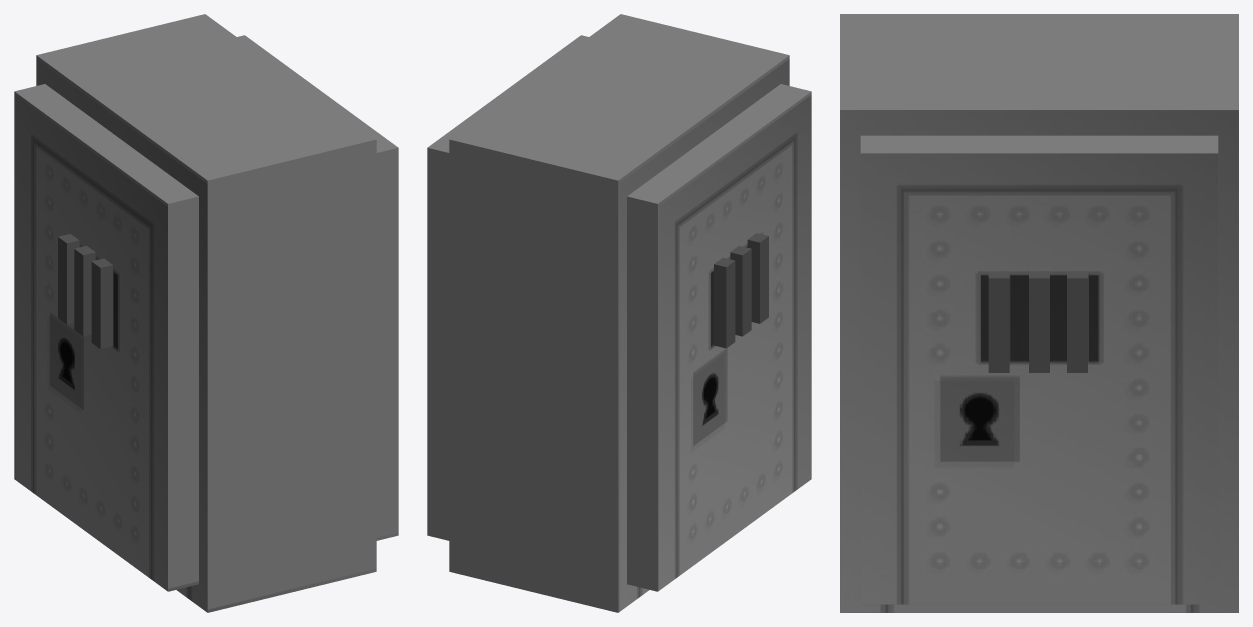
File: door.obj
3 renders of one model, left to right at view 1: azimuth 30°, elevation 25°; view 2: azimuth 150°, elevation 25°; view 3: azimuth 270°, elevation 25°, orthographic. The views are drawn at different scales.
Visible parts, largest first — view 1: Cube.001, Cube, Cube.002, Cube.003, Cube.004; view 2: Cube.001, Cube, Cube.004, Cube.002, Cube.003; view 3: Cube, Cube.001, Cube.002, Cube.003, Cube.004.
Boxes of the visible parts, <box> form: Cube.001: <box>36,14,376,612</box>; Cube: <box>14,35,398,591</box>; Cube.002: <box>91,258,112,349</box>; Cube.003: <box>74,245,95,336</box>; Cube.004: <box>58,234,79,324</box>; Cube.001: <box>449,14,789,612</box>; Cube: <box>427,35,811,591</box>; Cube.004: <box>714,257,735,348</box>; Cube.002: <box>747,233,768,323</box>; Cube.003: <box>730,245,751,336</box>; Cube: <box>860,135,1218,604</box>; Cube.001: <box>840,14,1238,612</box>; Cube.002: <box>988,271,1009,372</box>; Cube.003: <box>1029,271,1049,372</box>; Cube.004: <box>1067,271,1087,372</box>.
Bounding box in the file's own units: 1.92 × 3.1 × 2.23.
